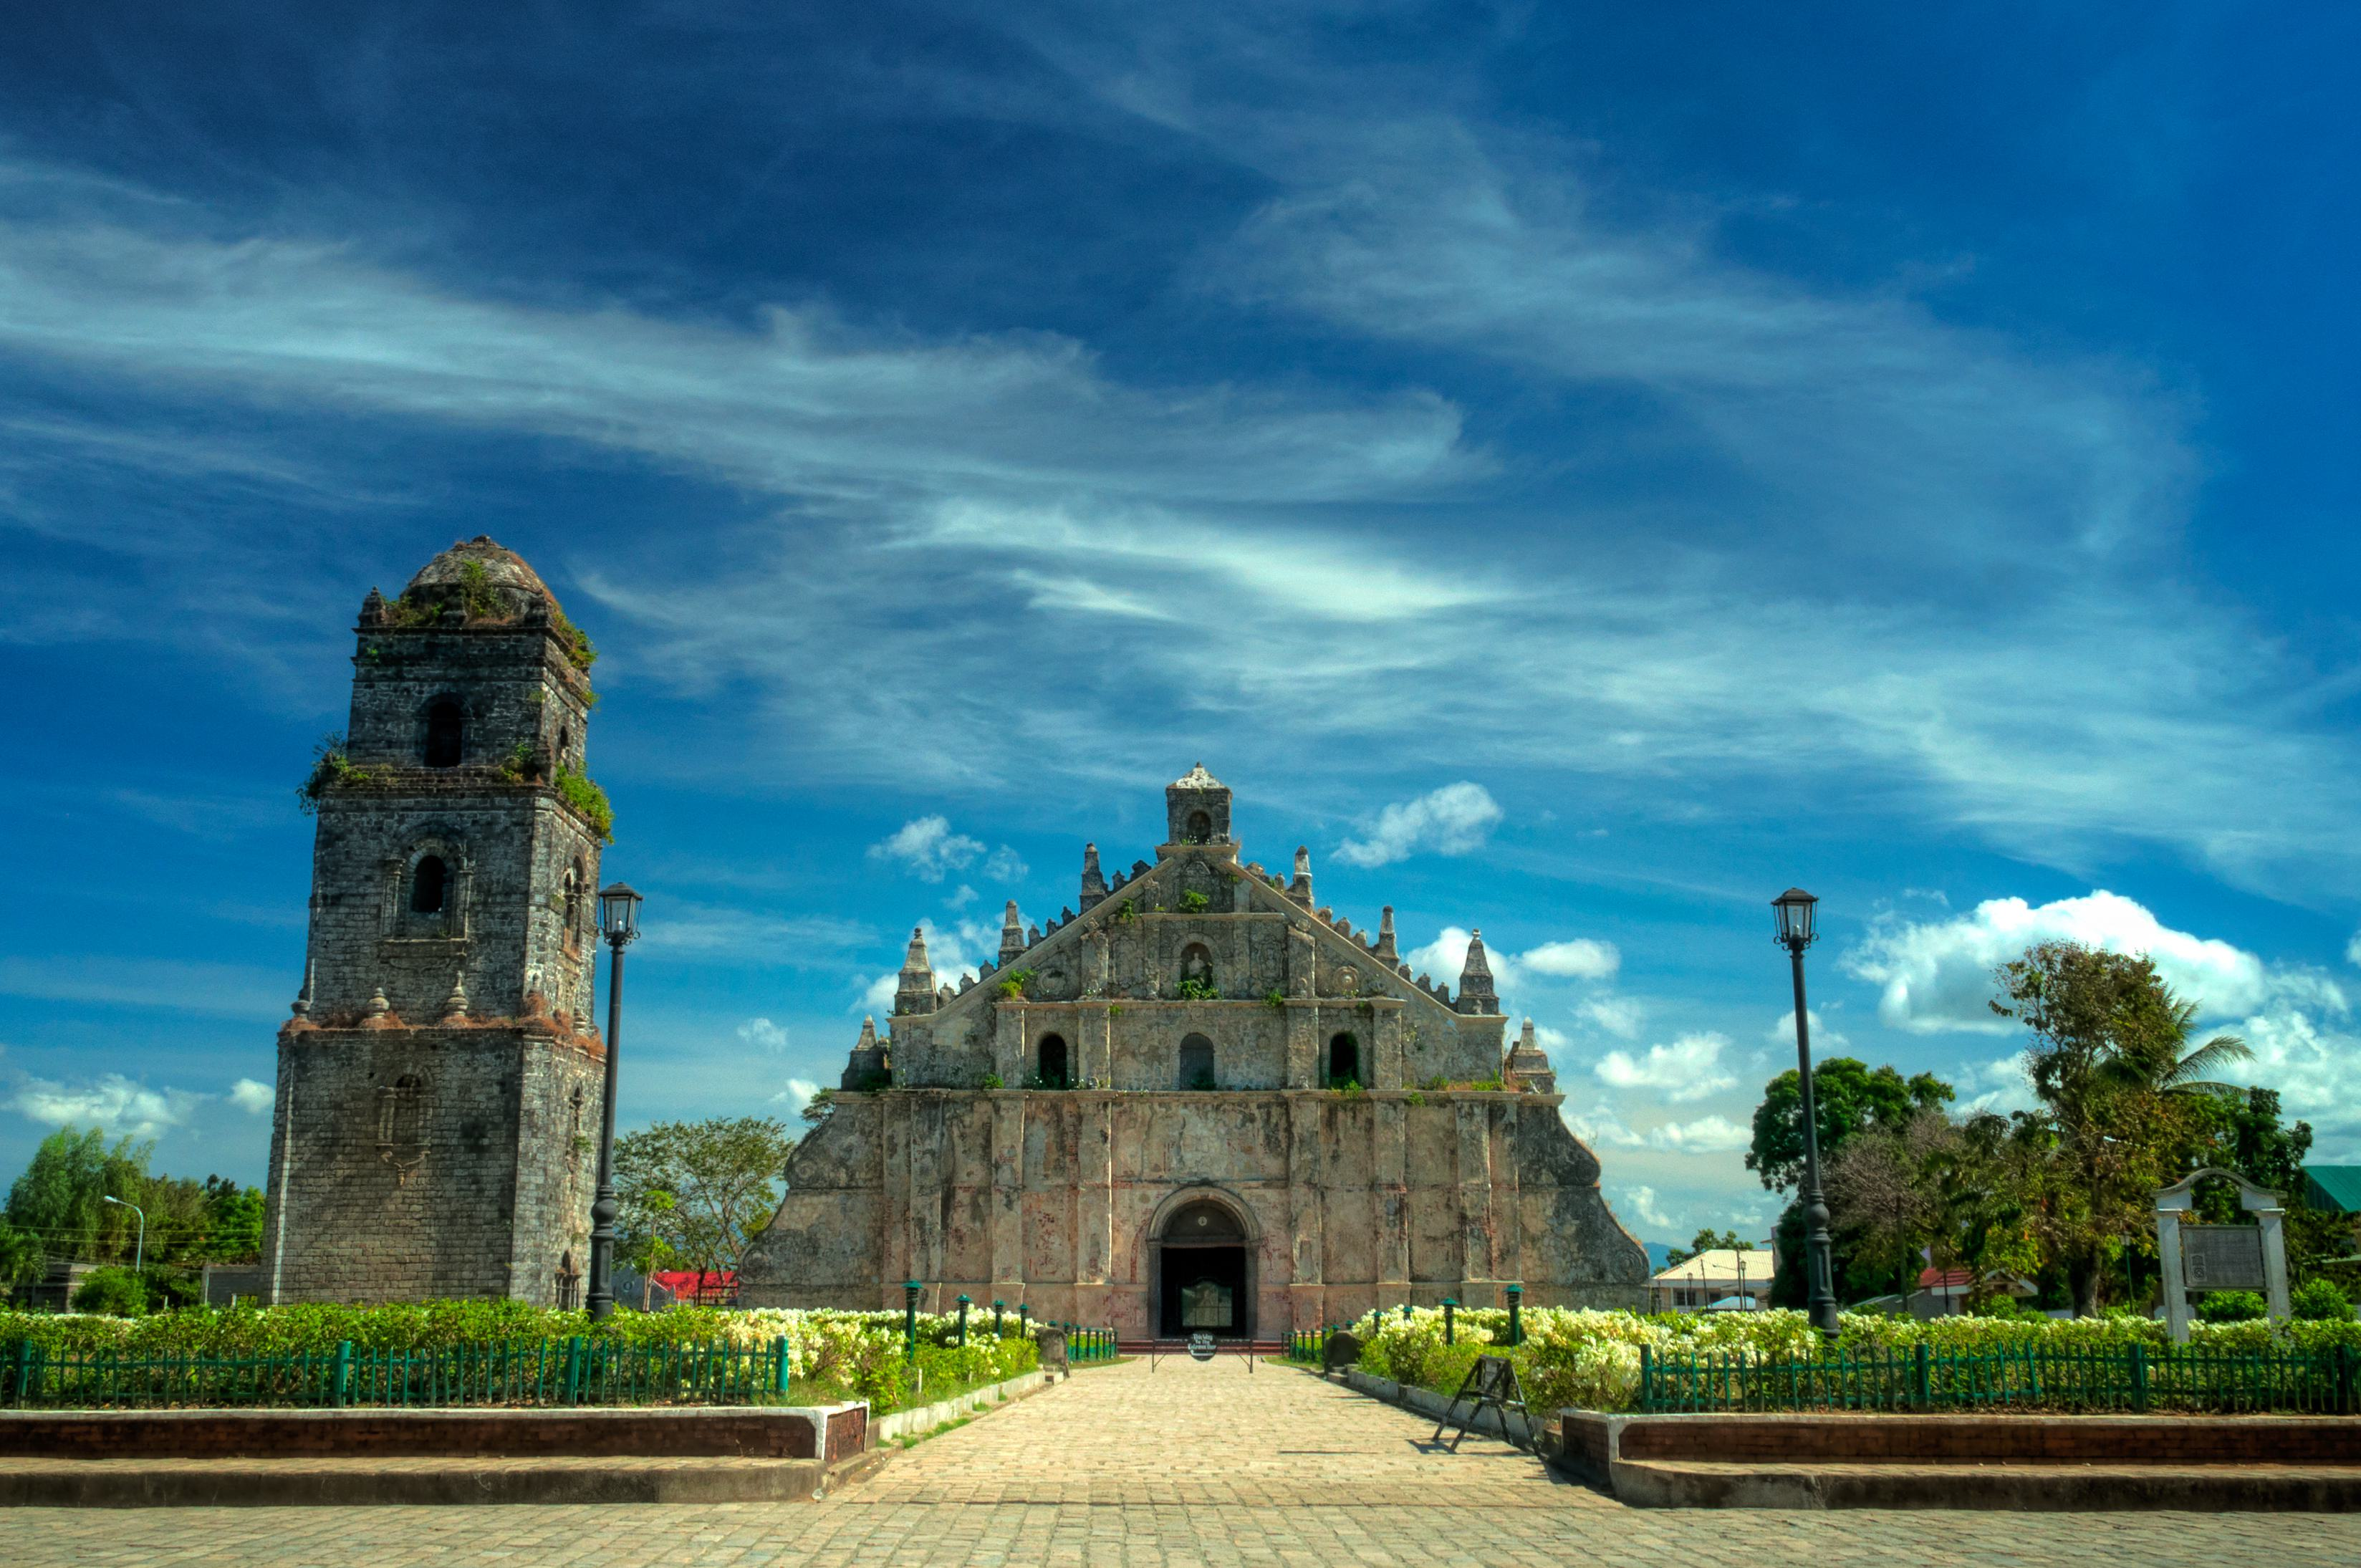Environmental Damage: (537, 772, 628, 837), (303, 742, 380, 807), (1173, 975, 1236, 1015), (989, 970, 1041, 1008)
Paoay Church: (250, 534, 1671, 1355)
